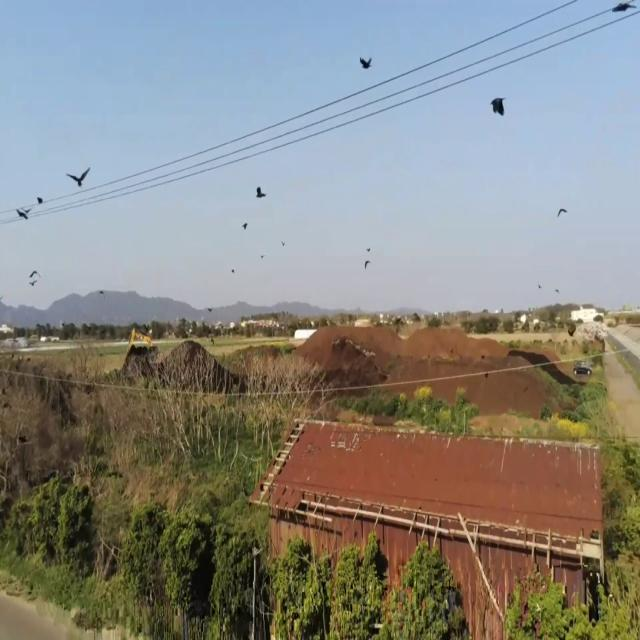bird: (67, 161, 90, 194), (490, 89, 505, 123), (16, 202, 31, 226), (360, 50, 371, 76), (256, 180, 266, 205), (37, 192, 44, 210), (365, 249, 371, 269), (243, 218, 248, 232)
